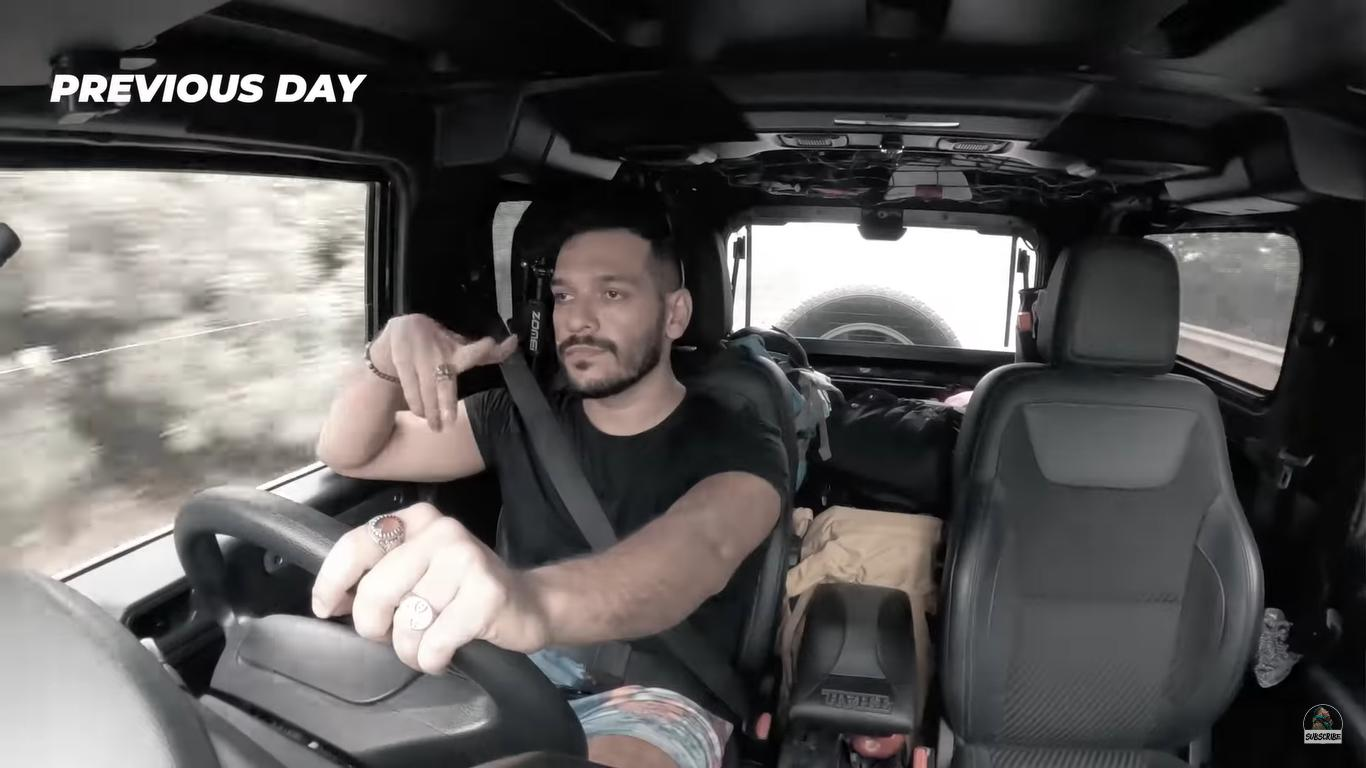seatbelt: (429, 327, 728, 663)
